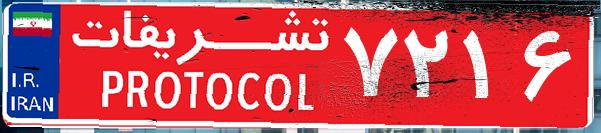1: (460, 20, 520, 115)
2: (400, 20, 460, 115)
6: (520, 20, 580, 115)
7: (340, 20, 400, 115)
تشریفات: (60, 8, 340, 125)
